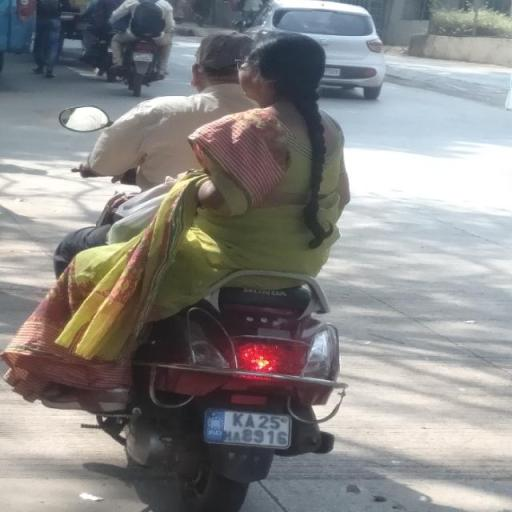bike: (26, 25, 387, 512)
numberplate: (204, 410, 296, 450)
withouthelmet: (245, 38, 324, 106), (196, 34, 242, 87)
